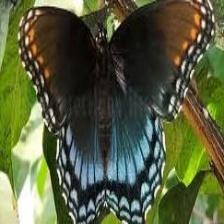butterfly: (21, 0, 215, 224)
